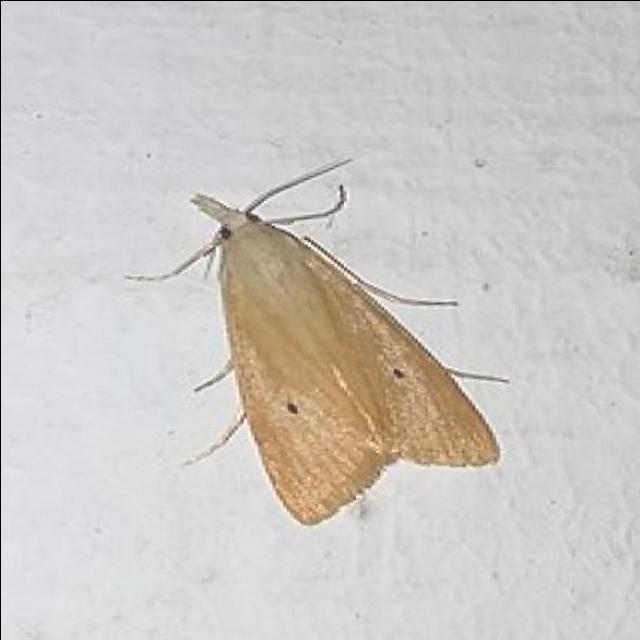stem borer: (175, 157, 507, 523)
